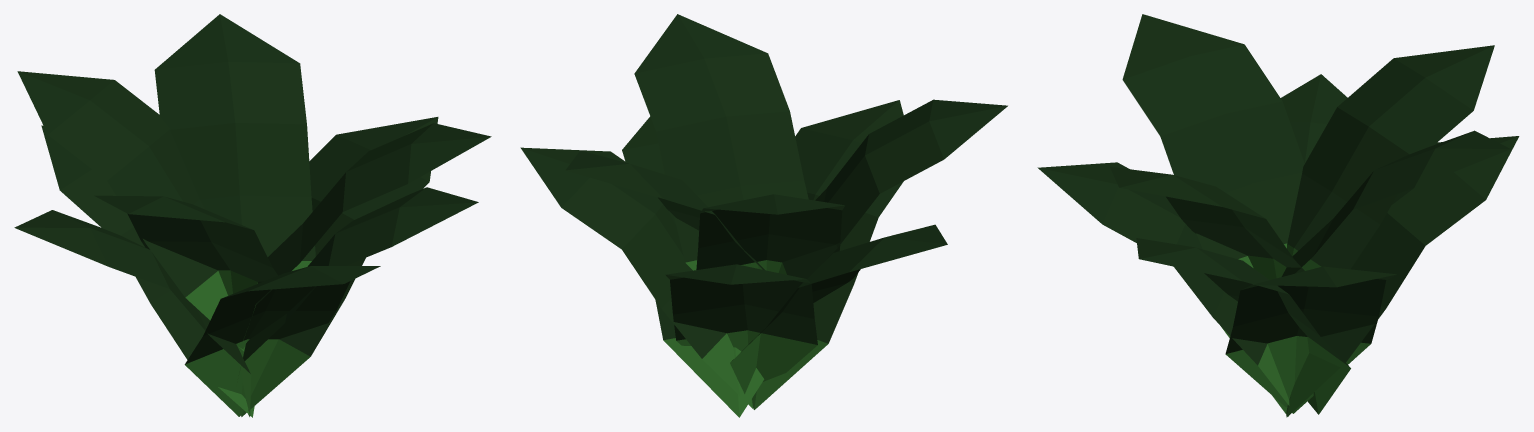
File: Dandelion_Touffe_Normal.FBX
3 views of the same model, side by side, from view 1: azimuth 30°, elevation 25°; view 2: azimuth 150°, elevation 25°; view 3: azimuth 270°, elevation 25° (orthographic). The views are drawn at different scales.
Parts seen in each view (by area): view 1: Hedra004; view 2: Hedra004; view 3: Hedra004.
Boxes of the visible parts, left/top/right/bottom form: Hedra004: left=14, top=14, right=491, bottom=417; Hedra004: left=520, top=14, right=1007, bottom=417; Hedra004: left=1037, top=14, right=1519, bottom=417.
Bounding box in the file's own units: 228 × 153 × 218.
